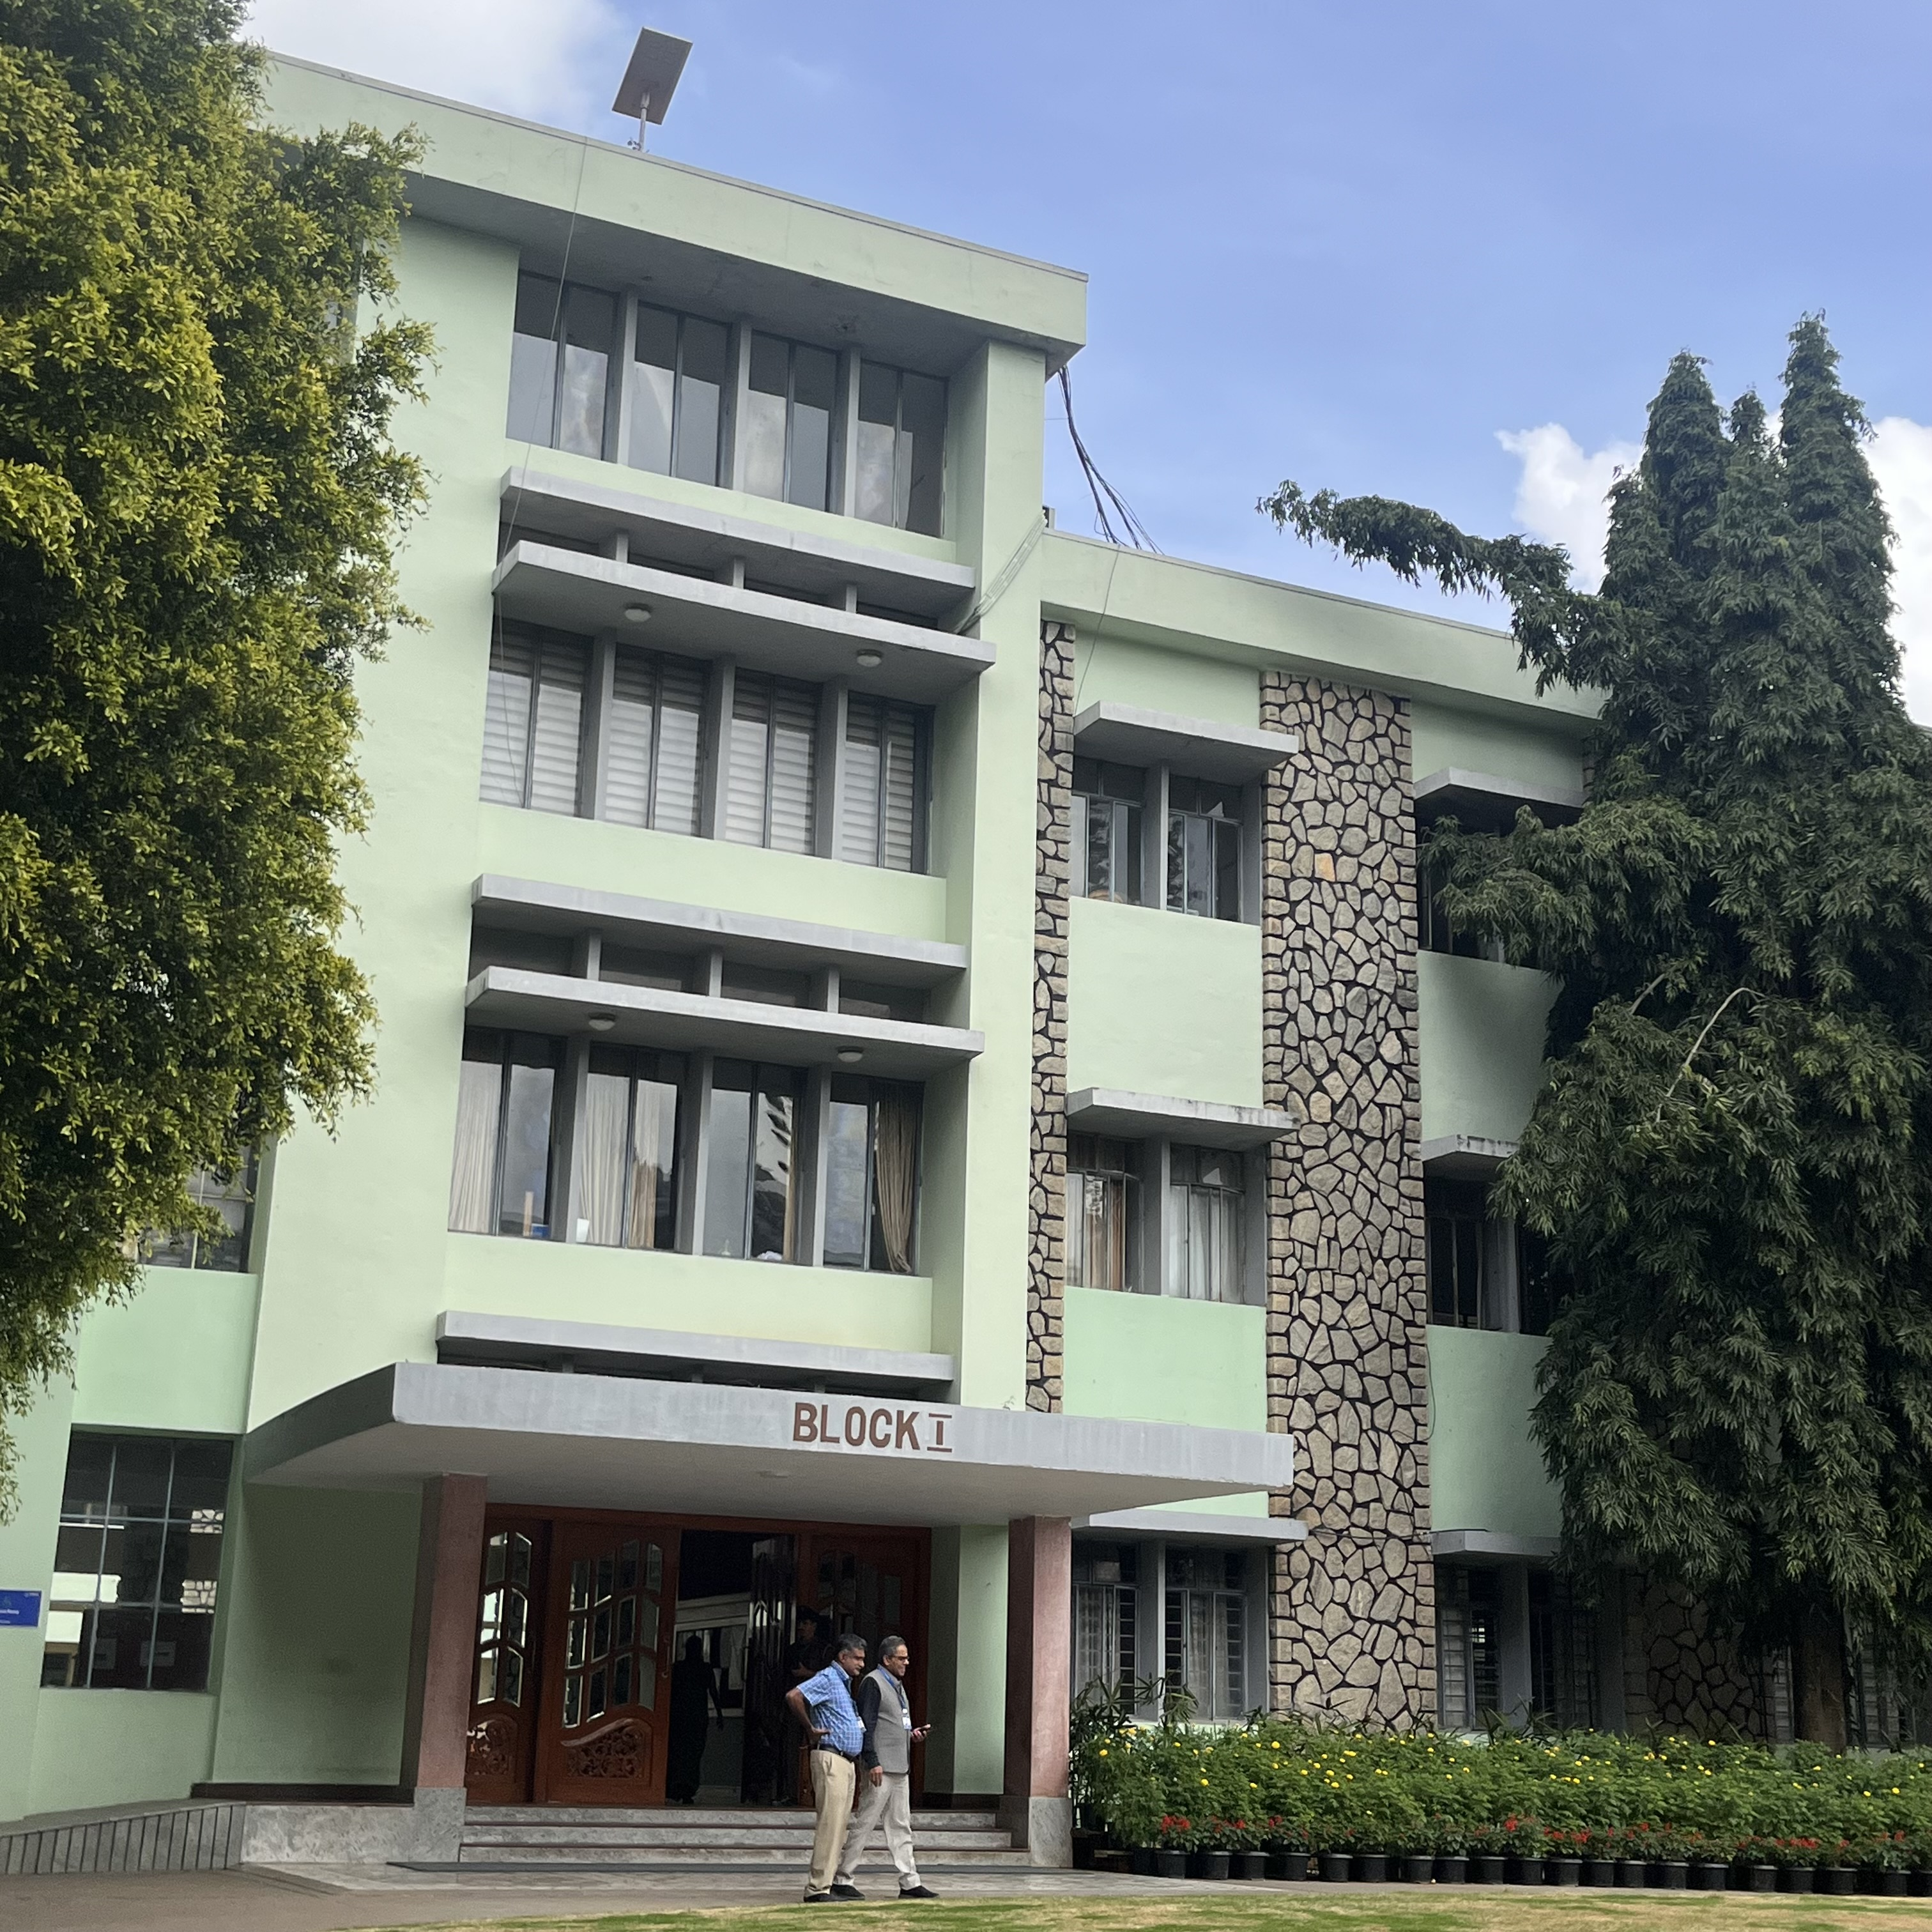Block 1: (387, 30, 1536, 1829)
